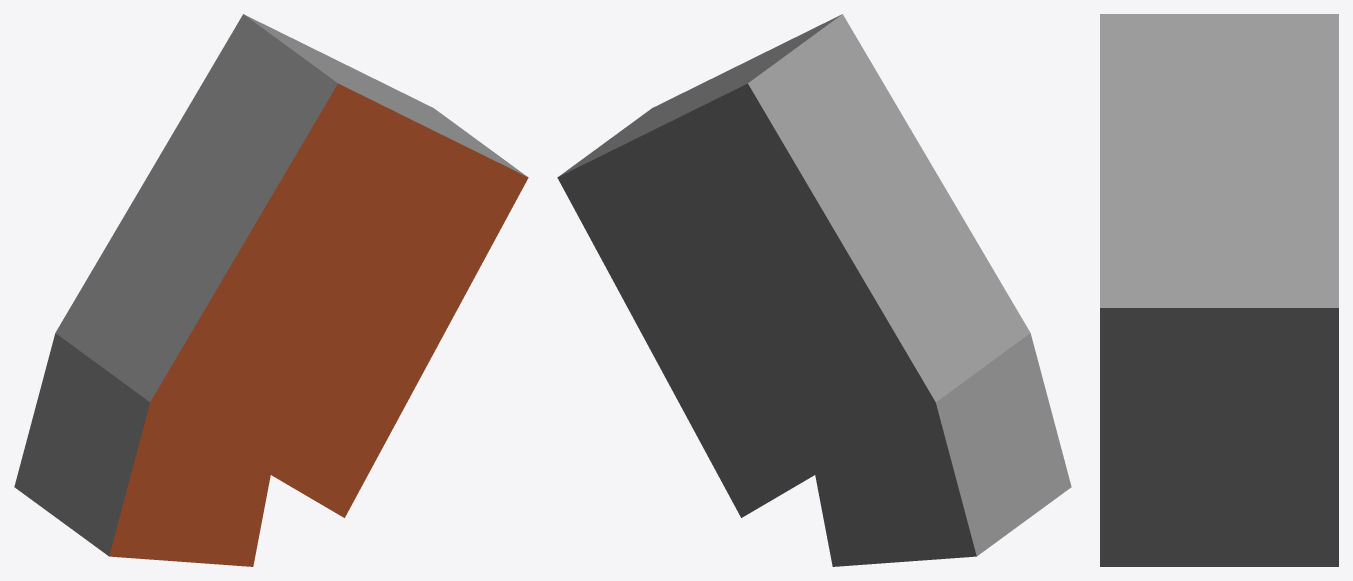
Rendered from construction_2234_assumed_A_Casa_h6m.obj.
3 renders of one model, left to right at view 1: azimuth 30°, elevation 25°; view 2: azimuth 150°, elevation 25°; view 3: azimuth 270°, elevation 25°, orthographic. The views are drawn at different scales.
Visible parts, largest first — view 1: construction_2234_assumed_A_Casa; view 2: construction_2234_assumed_A_Casa; view 3: construction_2234_assumed_A_Casa.
Boxes of the visible parts, x1,y1,x2,y2 form: construction_2234_assumed_A_Casa: (14,14,528,566); construction_2234_assumed_A_Casa: (557,14,1071,566); construction_2234_assumed_A_Casa: (1100,14,1338,566).
Size of the model in its own units: 15.32 by 16.15 by 6.
